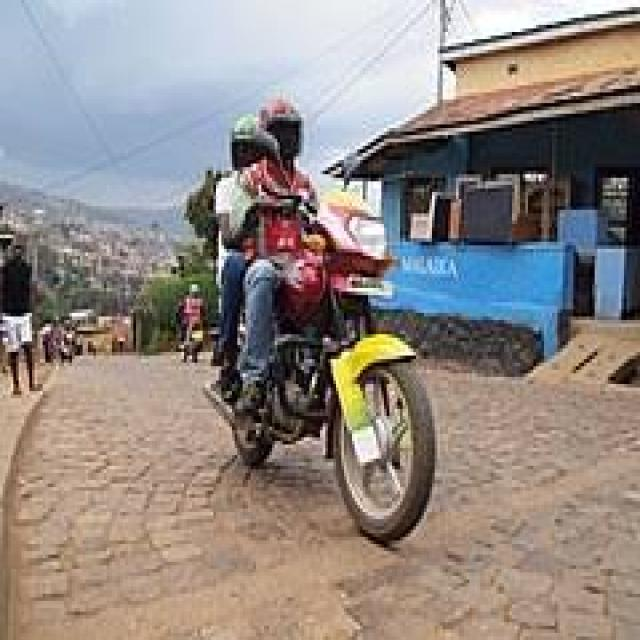bodaboda: (131, 107, 472, 582)
